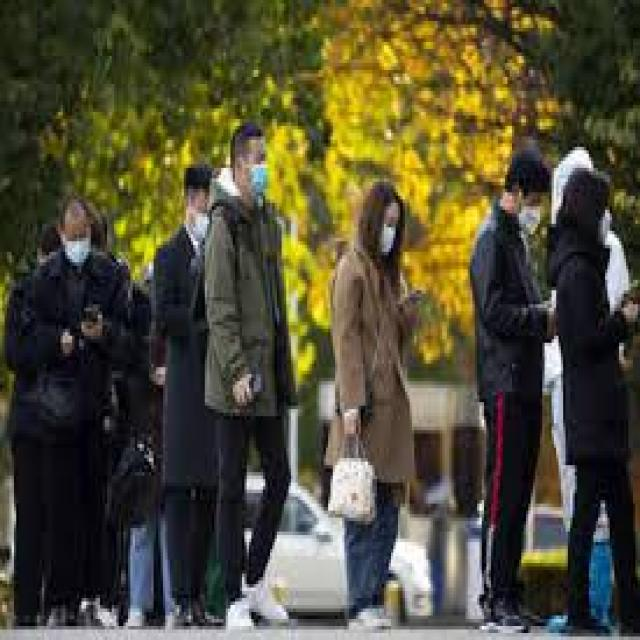Jacket: (144, 222, 239, 498), (319, 235, 421, 491), (542, 229, 638, 453), (202, 197, 296, 420), (466, 211, 556, 410), (30, 241, 131, 408)
